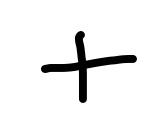plus: (42, 31, 137, 104)
